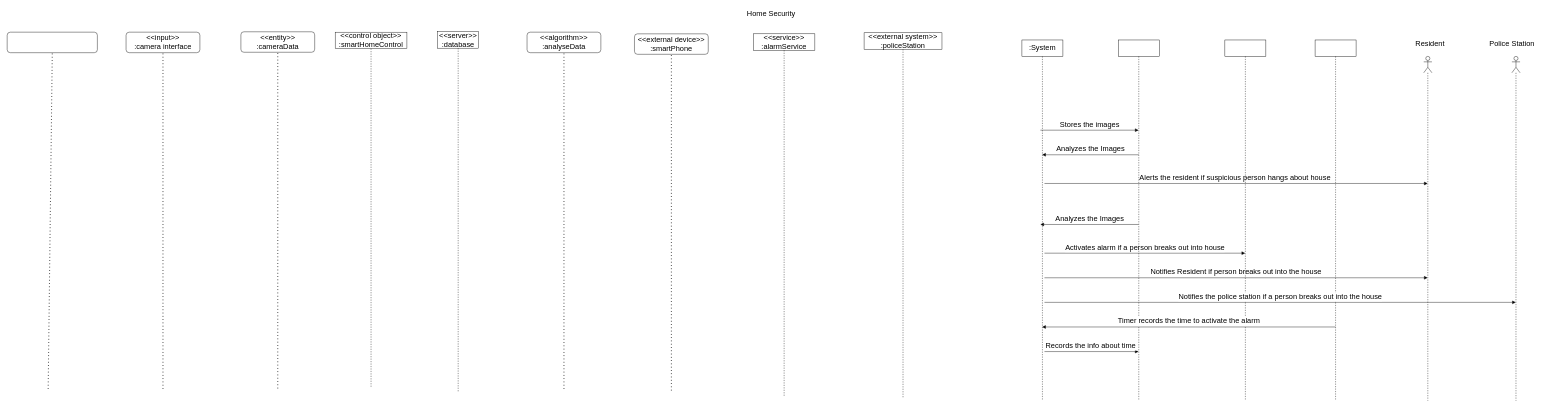
Image size: 1546x408. Some labels were removed from this diagram. Each missing label, with the box of its shape:
:Alarm: (1224, 40, 1266, 401)
:DB/Storage: (1118, 40, 1159, 401)
:Timer: (1315, 40, 1356, 401)
<<external i/p device>> :camera: (7, 32, 97, 53)
